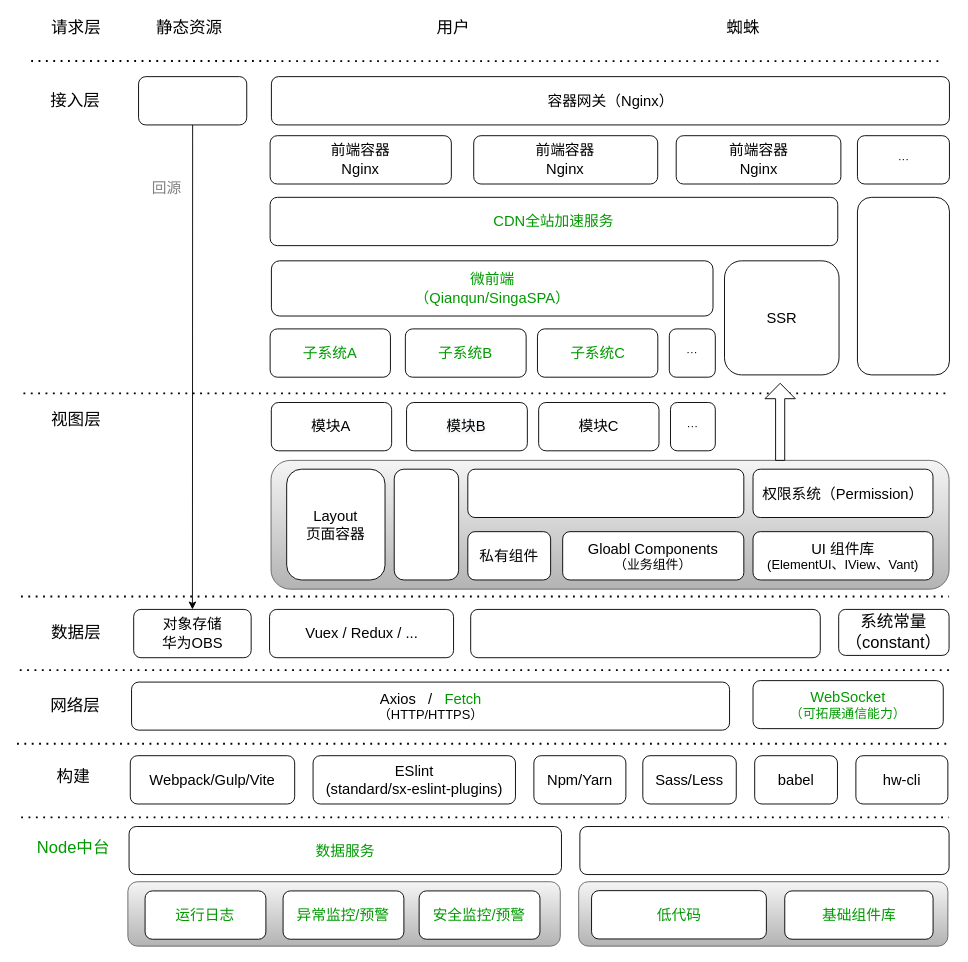
Image size: 968x962. Some labels were removed from this diagram. The centre of each missing label's shape, as x and y in pixels:
"AppCube" belongs at [903,285].
"CDN静态加速" belongs at [192,100].
"基础 组件库" belongs at [426,524].
"浏览器缓存技术 （Localstorage/SessionStorage/Cookie）" belongs at [645,633].
"路由（Vue-Router）" belongs at [605,493].
"通用能力" belongs at [764,850].
